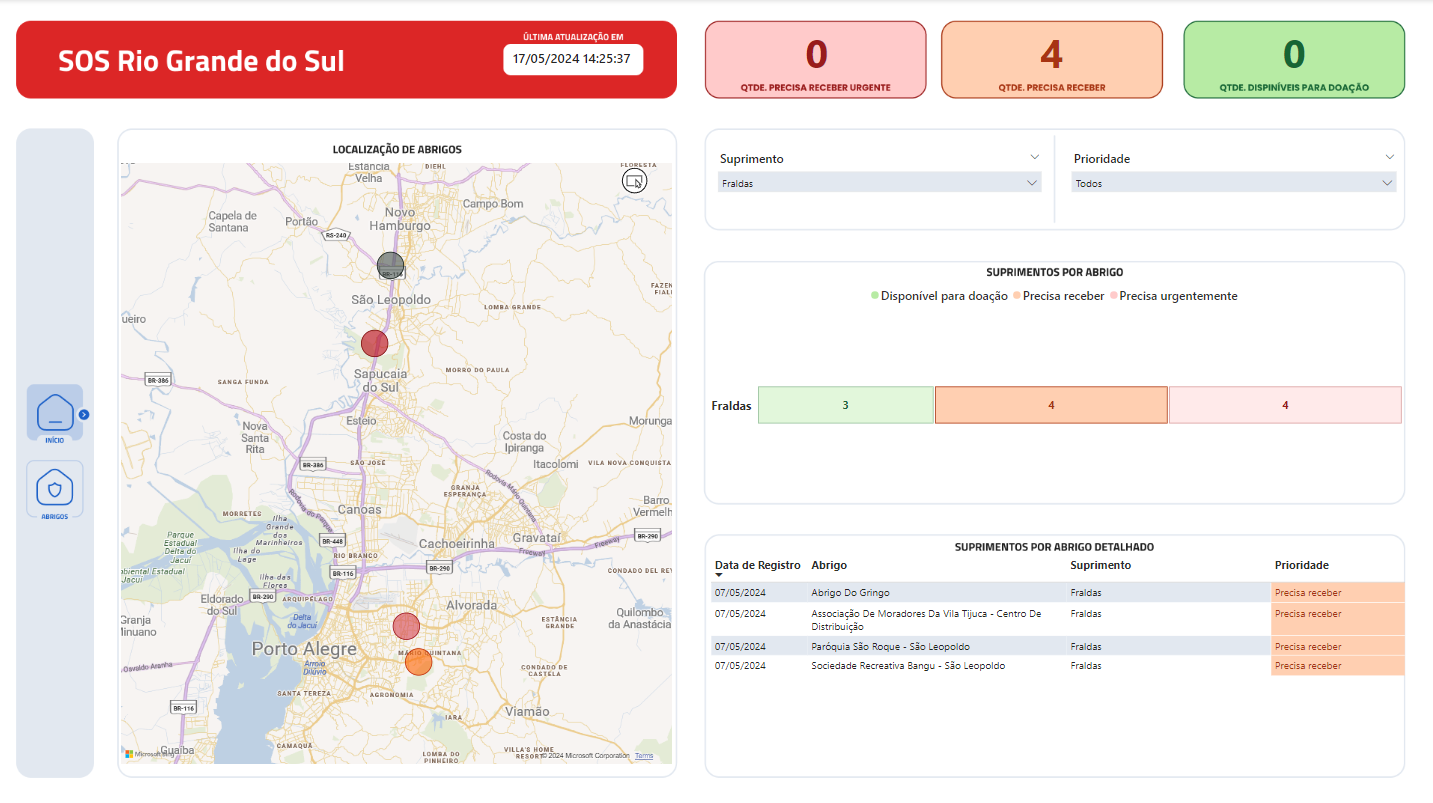

The dashboard page shown, as its layout file describes it:
{"tool":"powerbi","page":{"name":"SUPRIMENTOS","canvas":[1920,1080],"ordinal":0},"visuals":[{"type":"map","title":"Mapa dos abrigos","fields":{"Y":["Avg(DIMENSAO ABRIGO.Latitude)"],"X":["Avg(DIMENSAO ABRIGO.Longitude)"],"Series":["DIMENSAO ABRIGO.Nome do Abrigo"],"Category":["DIMENSAO ABRIGO.Endereço Completo"],"Size":["CountNonNull(FATO DOAÇÕES.SK Suprimento)"]},"box":[159.3,213.5,745.6,814.3],"z":0},{"type":"tableEx","title":"Suprimentos por abrigo","fields":{"Values":["FATO DOAÇÕES.Data Inclusão","DIMENSAO ABRIGO.Nome do Abrigo","DIMENSAO SUPRIMENTO.Nome Tratado","DIMENSAO PRIORIDADE.Descrição"]},"box":[944.6,736.5,955.5,289.5],"z":1000},{"type":"slicer","fields":{"Values":["DIMENSAO SUPRIMENTO.Nome Tratado"]},"box":[950.1,196.9,452.4,101.3],"z":2000},{"type":"slicer","fields":{"Values":["DIMENSAO PRIORIDADE.Descrição"]},"box":[1422.4,196.9,454.2,101.3],"z":3000},{"type":"barChart","title":"Quantidade de abrigos para cada tipo de suprimento","fields":{"Category":["DIMENSAO SUPRIMENTO.Nome Tratado"],"Y":["CountNonNull(FATO DOAÇÕES.SK Suprimento)"],"Series":["DIMENSAO PRIORIDADE.Descrição"]},"box":[944.6,374.6,933.8,300.4],"z":4000},{"type":"card","fields":{"Values":["Min(DATA DE ATUALIZAÇÃO DOS DADOS.Data de Atualização)"]},"box":[671.4,61.5,188.2,39.8],"z":5000},{"type":"card","fields":{"Values":["Medidas.Qtde Precisa Receber Urgentemente"]},"box":[944.6,27.1,295,85.1],"z":6000},{"type":"card","fields":{"Values":["Medidas.Qtde Precisa Receber"]},"box":[1259.5,27.1,295,85.1],"z":7000},{"type":"card","fields":{"Values":["Medidas.Qtde Dispinível para Doação"]},"box":[1583.5,27.1,295,85.1],"z":8000},{"type":"actionButton","box":[24.3,605.7,100,100],"z":9000}]}

Visuals, with their boxes on the page's 1920x1080 design canvas (x1, y1, x2, y2). These are canvas units, not pixel positions in the 1433x803 screenshot, which may show the page scaled, cropped or inside an application window:
"Mapa dos abrigos" map: select_region(159, 214, 905, 1028)
"Suprimentos por abrigo" tableEx: select_region(945, 736, 1900, 1026)
slicer - DIMENSAO SUPRIMENTO.Nome Tratado: select_region(950, 197, 1402, 298)
slicer - DIMENSAO PRIORIDADE.Descrição: select_region(1422, 197, 1877, 298)
"Quantidade de abrigos para cada tipo de suprimento" barChart: select_region(945, 375, 1878, 675)
card - Min(DATA DE ATUALIZAÇÃO DOS DADOS.Data de Atualização): select_region(671, 62, 860, 101)
card - Medidas.Qtde Precisa Receber Urgentemente: select_region(945, 27, 1240, 112)
card - Medidas.Qtde Precisa Receber: select_region(1260, 27, 1554, 112)
card - Medidas.Qtde Dispinível para Doação: select_region(1584, 27, 1878, 112)
actionButton: select_region(24, 606, 124, 706)
